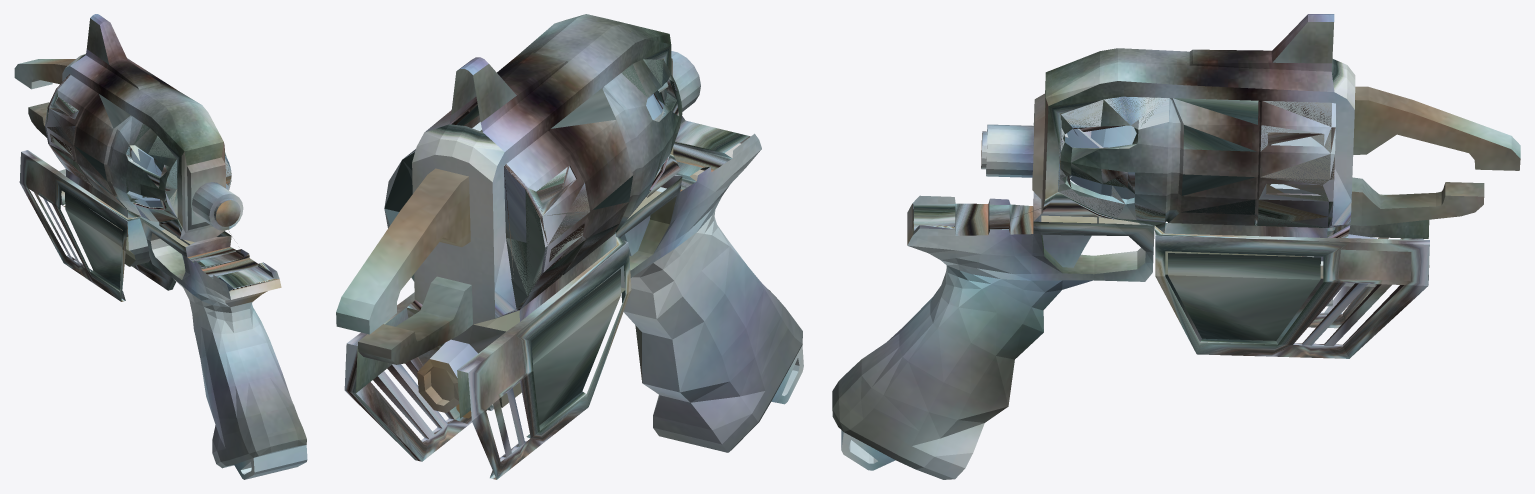
File: hammer.FBX
The picture shows the model from 3 angles, left to right: view 1: azimuth 30°, elevation 25°; view 2: azimuth 150°, elevation 25°; view 3: azimuth 270°, elevation 25°; orthographic projection. The views are drawn at different scales.
Parts seen in each view (by area): view 1: default; view 2: default; view 3: default.
Boxes of the visible parts, <box> form: default: <box>14,14,307,479</box>; default: <box>336,14,803,479</box>; default: <box>832,14,1520,479</box>.
Size of the model in its own units: 0.00561 by 0.0249 by 0.0181.
